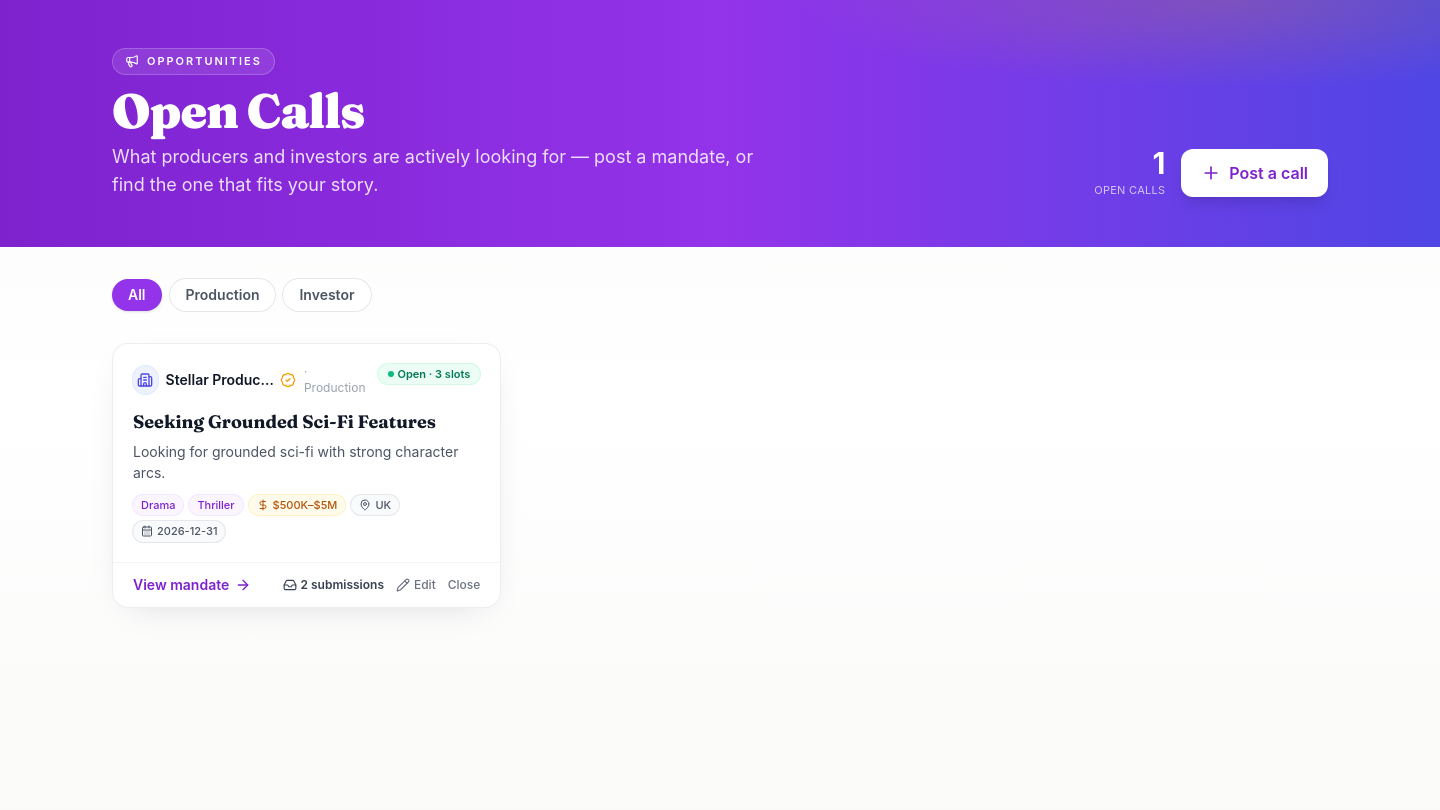
Test case: OpportunitiesBoard › opens the submissions modal when the submissions count button is clicked
Click the button "2 submissions" at coordinates (333, 584), box [282, 576, 384, 592]
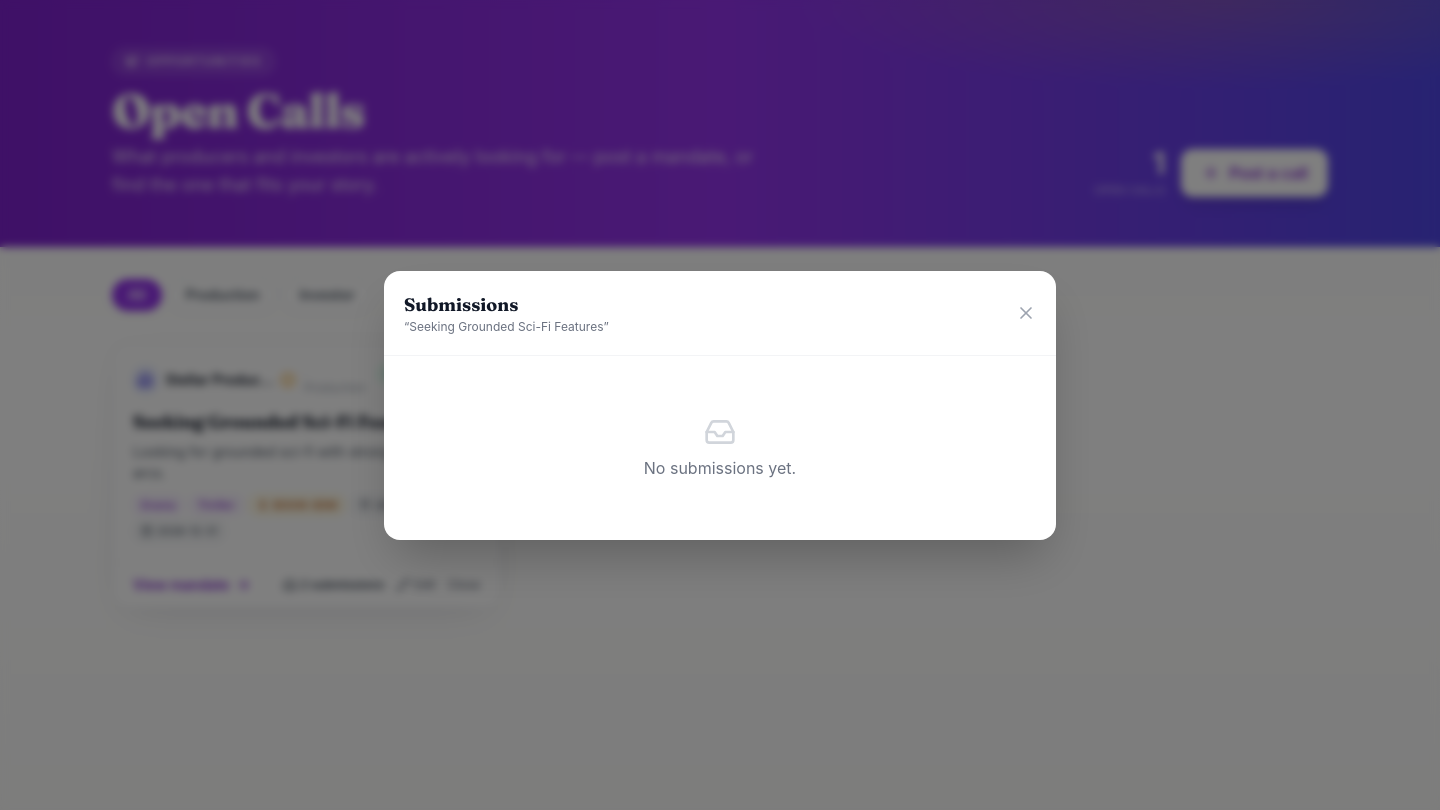
Now the heading "Submissions" is shown, box [404, 292, 518, 316]
